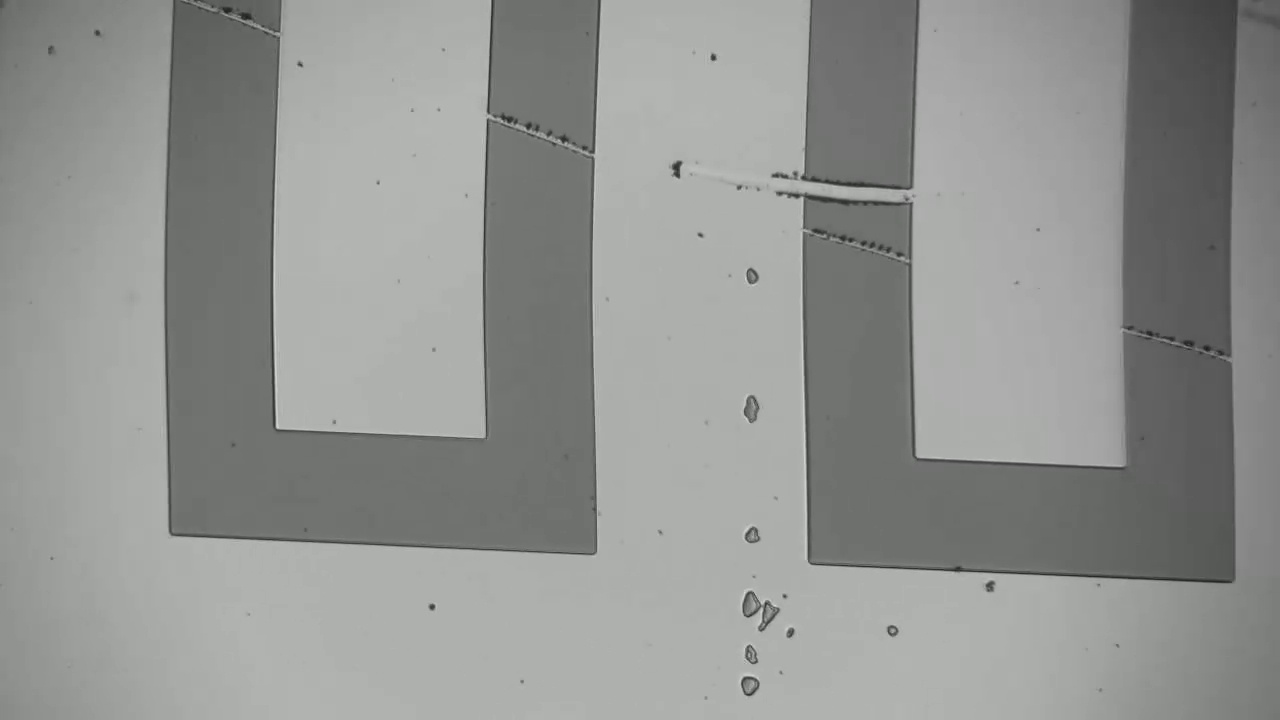Short_circuit: (779, 167, 926, 218)
scratch: (489, 113, 591, 151), (808, 226, 905, 257), (1129, 325, 1225, 356), (187, 1, 275, 31)
